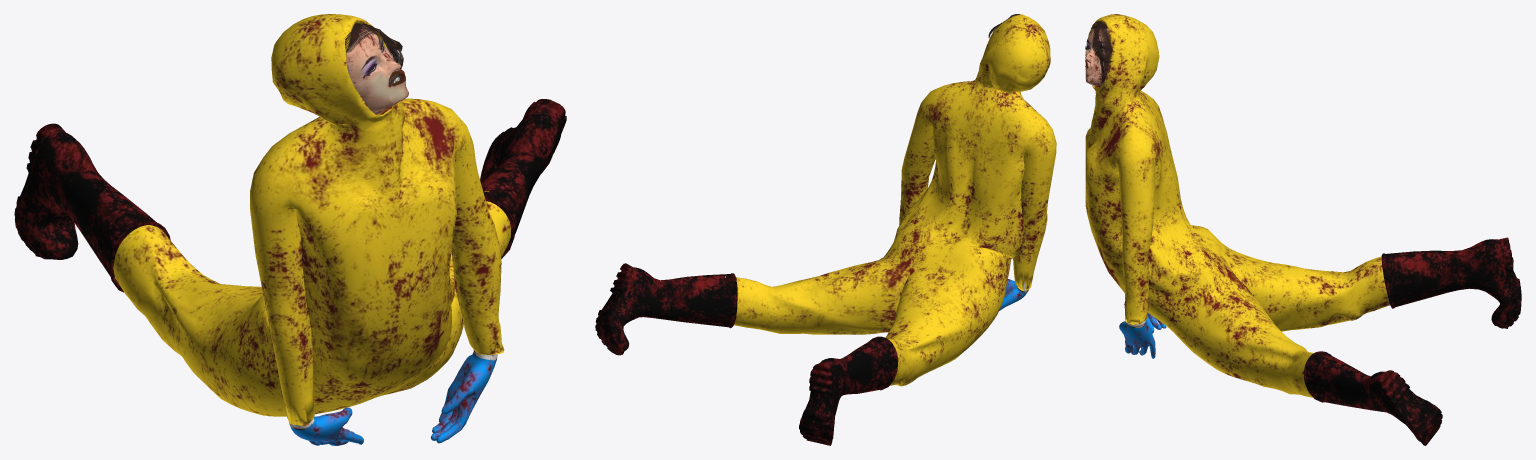
File: corpse_a.glb
3 renders of one model, left to right at view 1: azimuth 30°, elevation 25°; view 2: azimuth 150°, elevation 25°; view 3: azimuth 270°, elevation 25°, orthographic. The views are drawn at different scales.
Visible parts, largest first — view 1: Dead_Hazmat_Female; view 2: Dead_Hazmat_Female; view 3: Dead_Hazmat_Female.
Boxes of the visible parts, box(x1,y1,x2,y2) form: Dead_Hazmat_Female: box(14, 14, 566, 445); Dead_Hazmat_Female: box(595, 14, 1056, 445); Dead_Hazmat_Female: box(1085, 14, 1521, 445).
Size of the model in its own units: 1.01 by 0.8656 by 1.14.
Materials: 1 (1 with a texture image).
